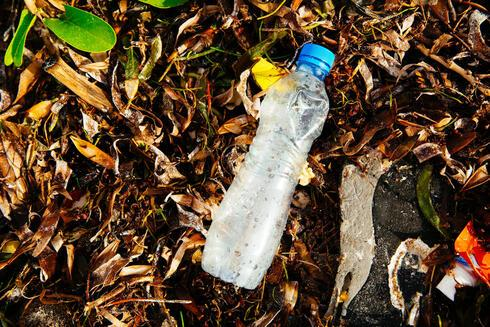plastic_bottle: (193, 42, 345, 284)
